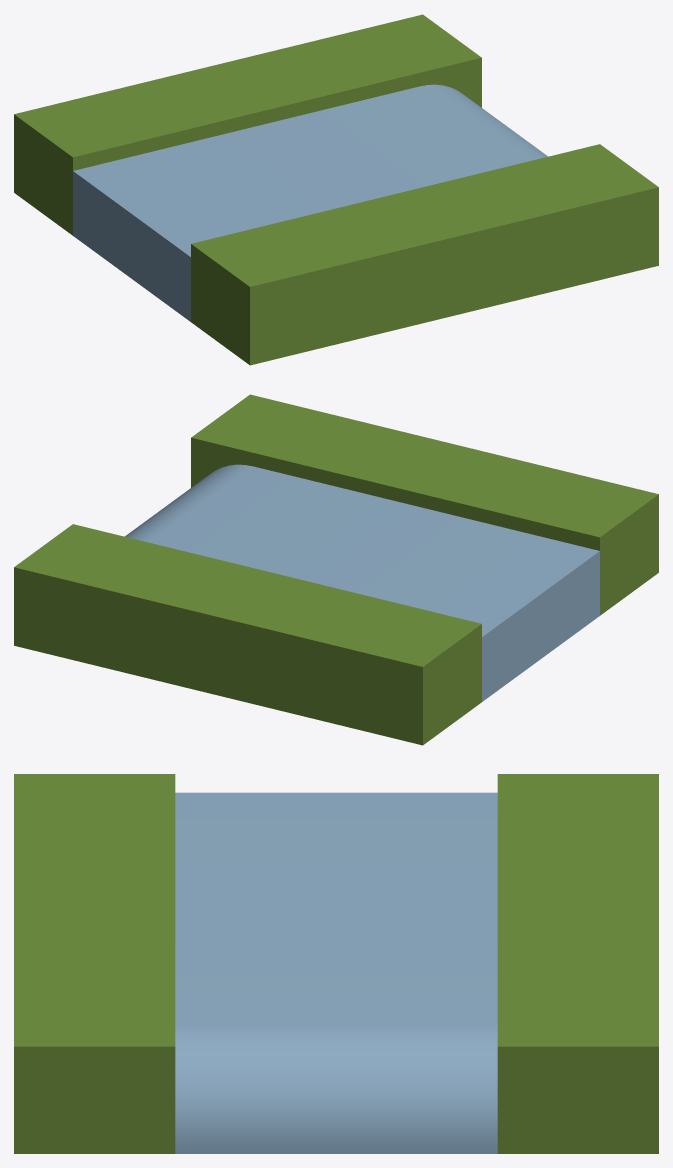
Rendered from roadTile_175.obj.
The picture shows the model from 3 angles, top to bottom: view 1: azimuth 30°, elevation 25°; view 2: azimuth 150°, elevation 25°; view 3: azimuth 270°, elevation 25°; orthographic projection. The views are drawn at different scales.
Visible parts, largest first — view 1: Mesh1_Group1_Model.068; view 2: Mesh1_Group1_Model.068; view 3: Mesh1_Group1_Model.068.
Part boxes in pixels (left/top/right/bottom): Mesh1_Group1_Model.068: left=14, top=14, right=658, bottom=365; Mesh1_Group1_Model.068: left=14, top=394, right=658, bottom=745; Mesh1_Group1_Model.068: left=14, top=774, right=658, bottom=1153.
Size of the model in its own units: 3 by 0.55 by 3.
